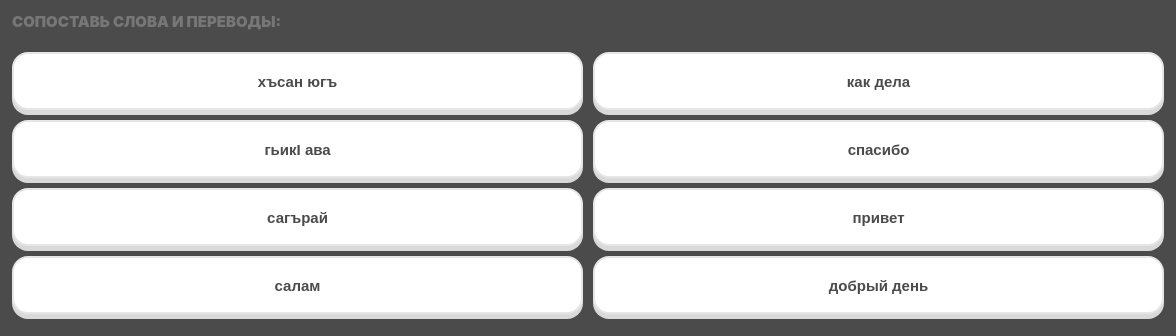
Test case: matches by pair identity instead of screen position
Click the button "гьикI ава" at (298, 149), box [12,120,583,178]
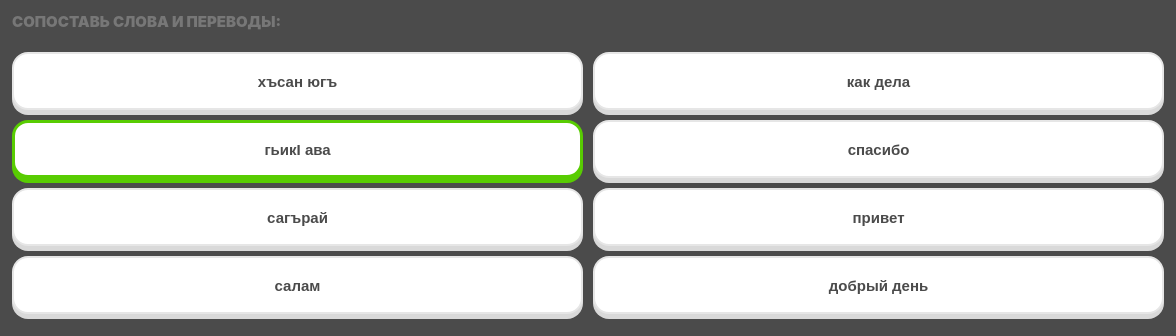
Click the button "как дела" at (878, 81), box [593,52,1164,110]
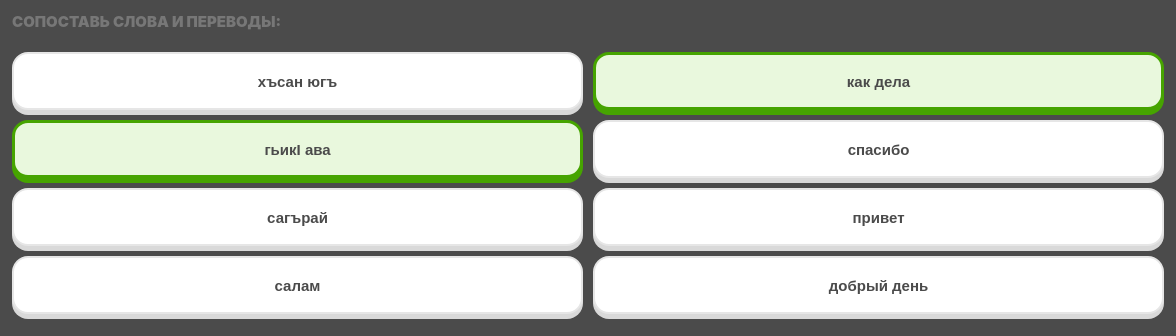
Now the button "гьикI ава" is disabled, box [12,120,583,178]
Now the button "как дела" is disabled, box [593,52,1164,110]
